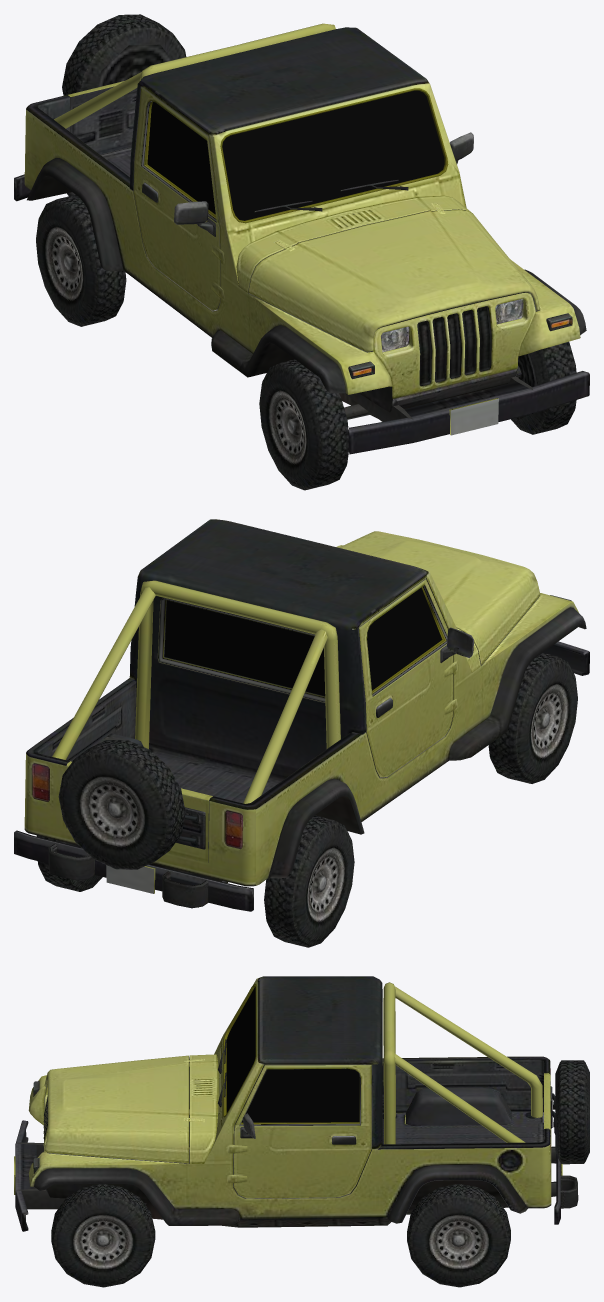
The model's file is 05_Jeep .fbx.
3 renders of one model, top to bottom at view 1: azimuth 30°, elevation 25°; view 2: azimuth 150°, elevation 25°; view 3: azimuth 270°, elevation 25°, orthographic. The views are drawn at different scales.
Visible parts, largest first — view 1: polySurface212, polySurface213, polySurface214, polySurface216; view 2: polySurface212, polySurface214, polySurface213, polySurface215; view 3: polySurface212, polySurface216, polySurface215.
Part boxes in pixels (left/top/right/bottom): polySurface212: left=14, top=14, right=589, bottom=454; polySurface213: left=259, top=359, right=348, bottom=490; polySurface214: left=36, top=194, right=126, bottom=326; polySurface216: left=511, top=341, right=576, bottom=434; polySurface212: left=14, top=519, right=589, bottom=911; polySurface214: left=264, top=815, right=354, bottom=947; polySurface213: left=488, top=653, right=577, bottom=783; polySurface215: left=36, top=835, right=102, bottom=891; polySurface212: left=14, top=976, right=589, bottom=1231; polySurface216: left=51, top=1184, right=155, bottom=1287; polySurface215: left=407, top=1184, right=510, bottom=1287.
Size of the model in its own units: 13.91 by 12.45 by 29.25.
3 materials, 3 textured.
